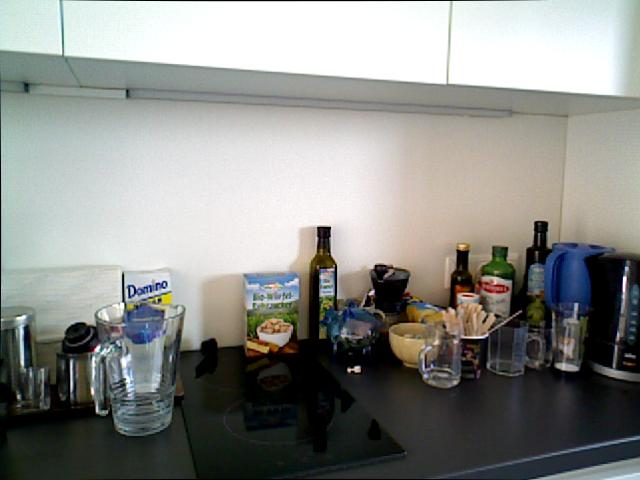bench: (479, 245, 515, 354), (523, 220, 554, 336), (308, 225, 337, 348), (449, 242, 473, 338)
bird: (388, 321, 444, 368), (255, 316, 296, 350)
handbag: (91, 299, 186, 437), (486, 319, 545, 377), (417, 321, 461, 388), (551, 301, 591, 372), (451, 327, 489, 381)
